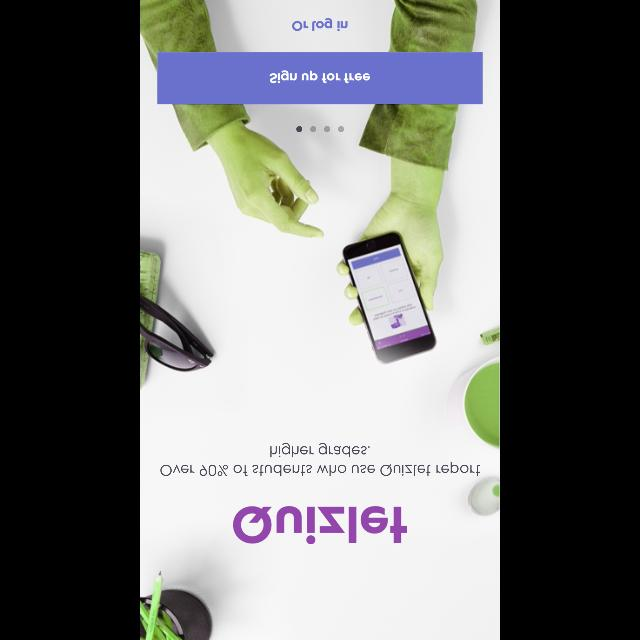backgroundimage: (140, 1, 500, 640)
pageindicator: (296, 126, 344, 132)
text: (160, 442, 480, 476), (233, 506, 407, 544), (292, 18, 348, 32)
textbutton: (158, 52, 482, 104)
